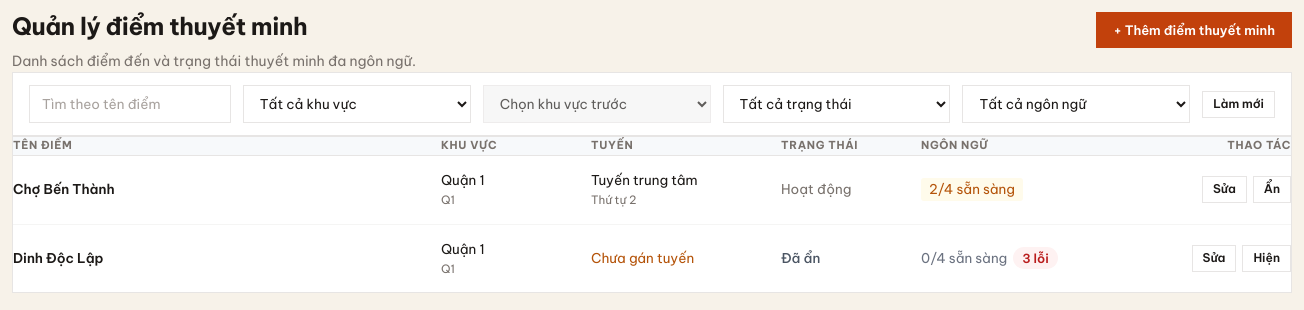
Scenario: PoiListPage › lọc theo ngôn ngữ gửi languageStatus lên máy chủ
Expected: the link "Chợ Bến Thành" is shown, [13,180,114,198]
Select "Có lỗi" in the dropdown named "Lọc theo ngôn ngữ" at (1076, 104), box [962,86,1190,124]
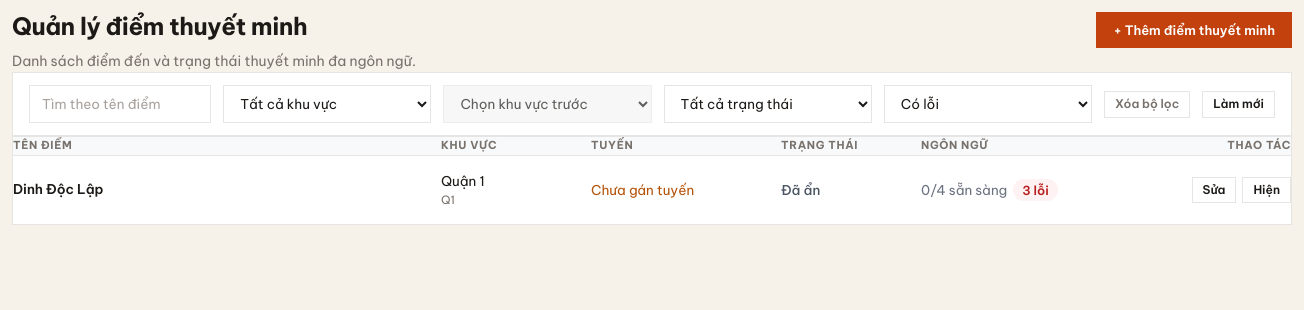
Expected: the link "Dinh Độc Lập" is shown, [13,180,104,198]
Expected: the link "Chợ Bến Thành" is gone
Select "Có chờ xử lý" in the dropdown named "Lọc theo ngôn ngữ" at (988, 104), box [884,86,1092,124]
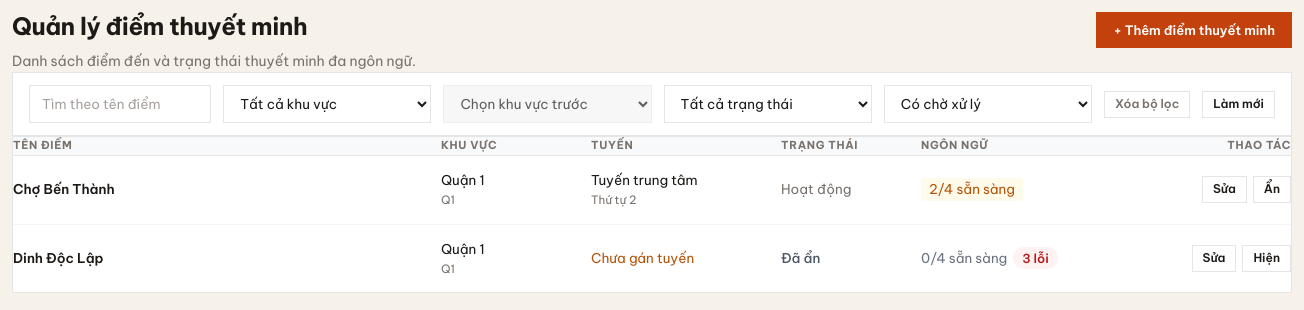
Expected: the link "Dinh Độc Lập" is shown, [13,248,104,266]
Expected: the link "Chợ Bến Thành" is shown, [13,180,114,198]
